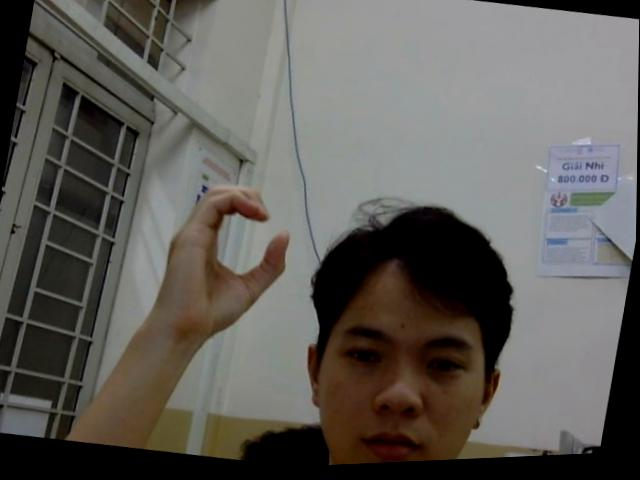C: (153, 174, 299, 350)
